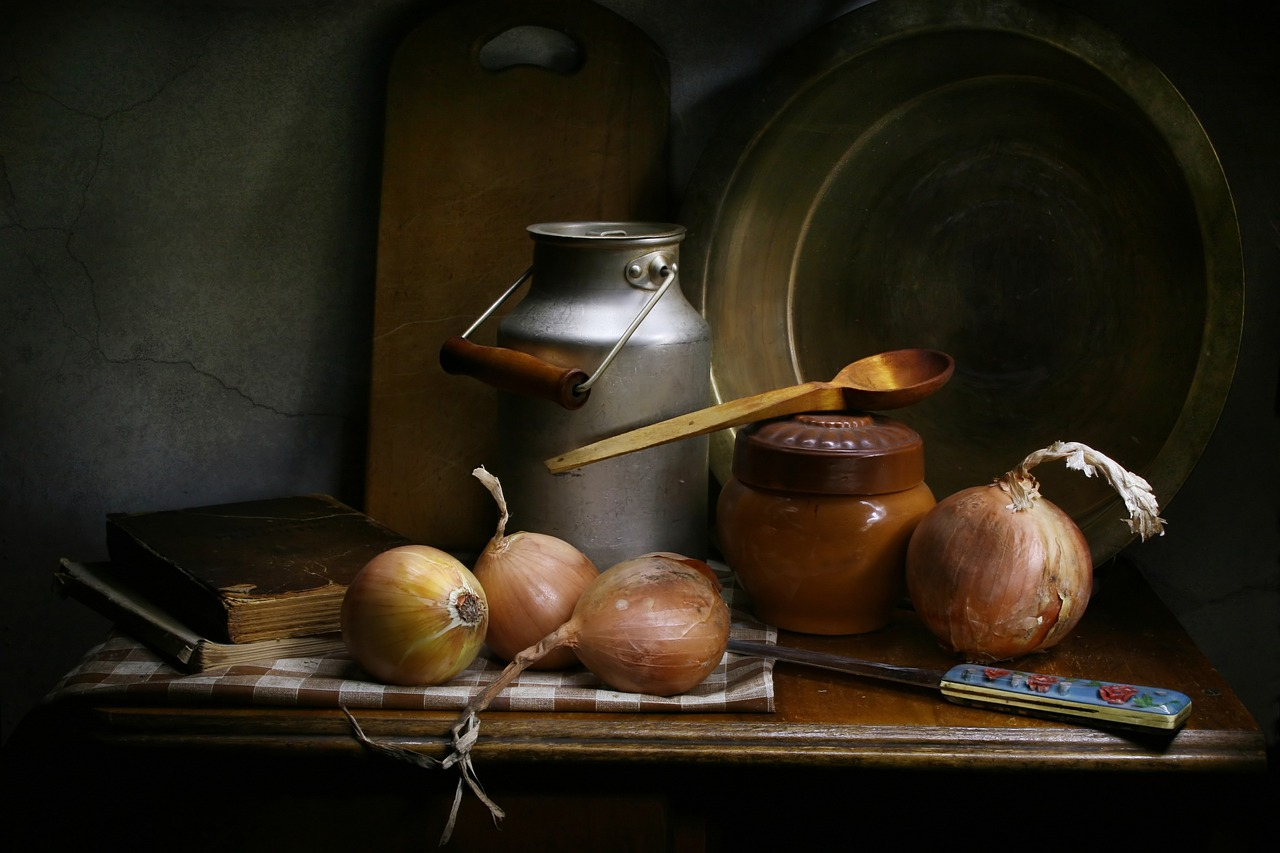knife: (746, 628, 1205, 754)
